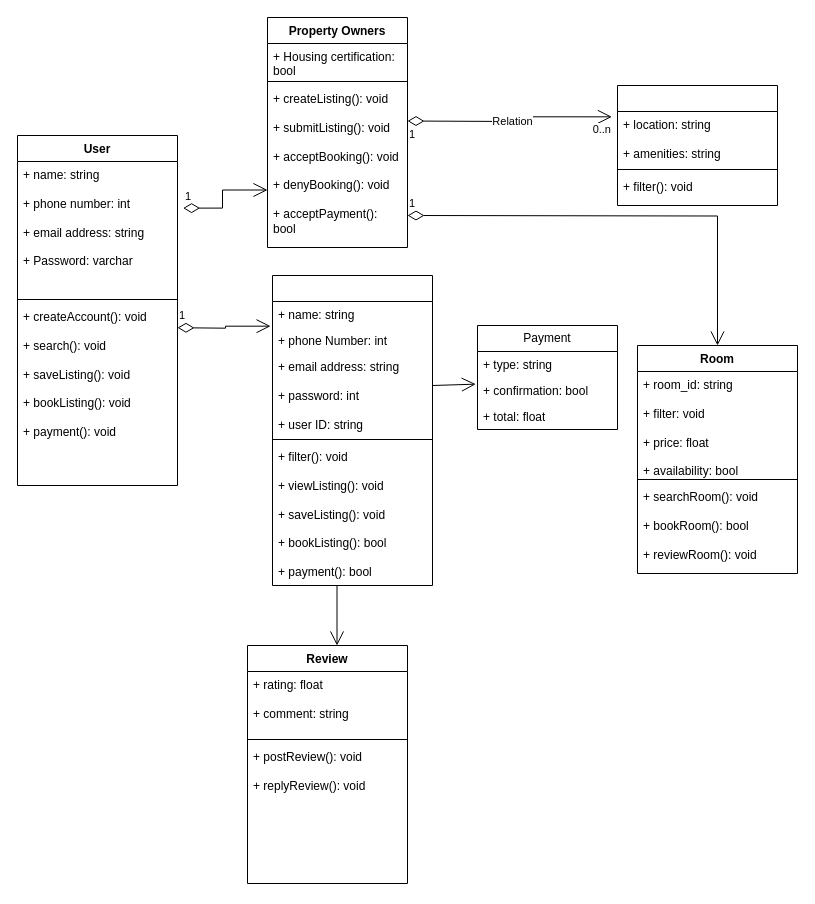
The diagram is 815 pixels wide and 904 high, and some of its shapes have lost their labels. Here are the shapes that lost their labels. From the top down, the box of each, then its label:
(616, 84, 778, 206): Listing
(272, 274, 432, 586): Travel Nurses
